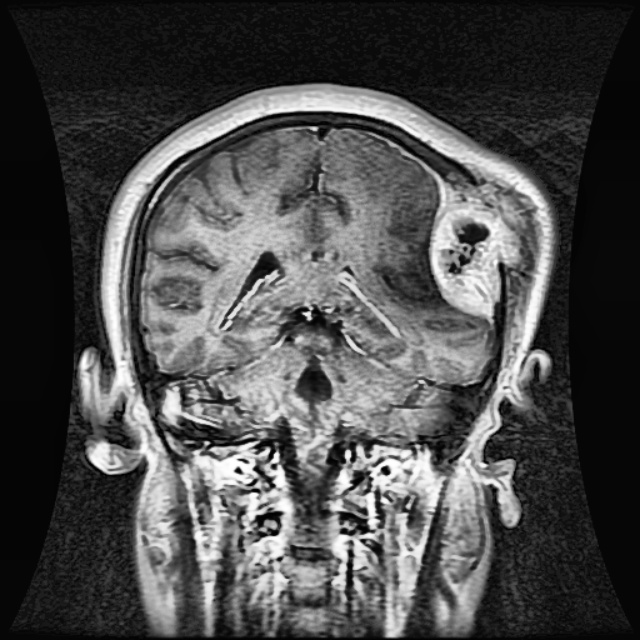Glioma: (429, 183, 522, 314)
